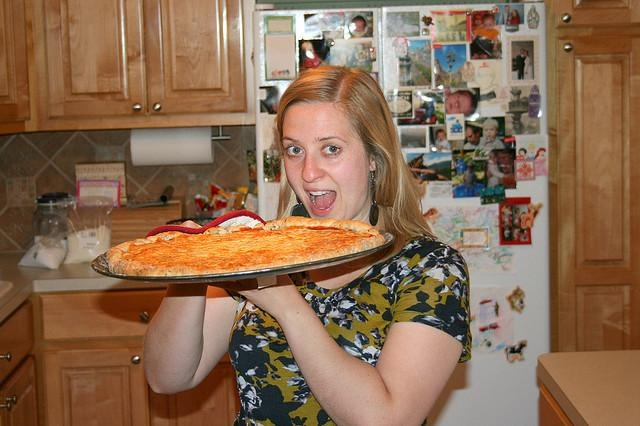person: (144, 63, 473, 426)
